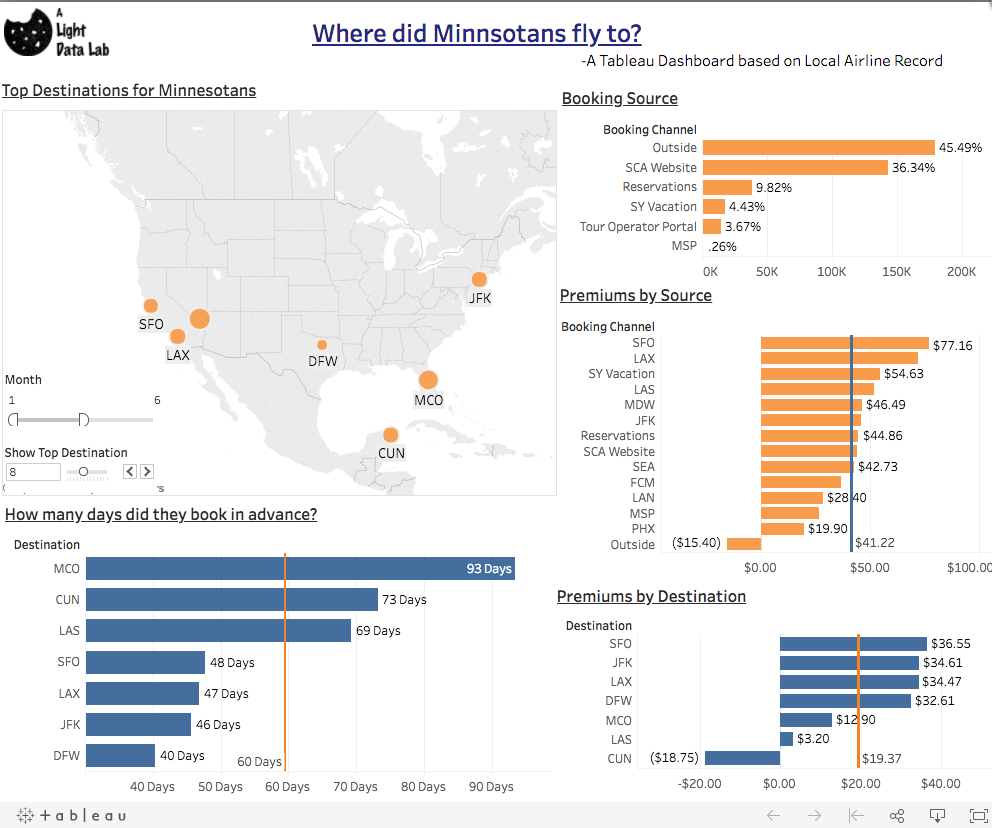

Layout of this report page (visuals, bound fields, positions):
{"tool":"tableau","page":{"name":"Dashboard 1","canvas":[1000,800],"ordinal":0},"visuals":[{"type":"image","param":"/Users/oreo/Documents/GitHub/Shiny App/airport_shiny/Logo/white.png","box":[0,2,120,56]},{"type":"text","box":[49,6,867,47]},{"type":"text","box":[679,34,100,30]},{"type":"text","box":[578,40,382,35]},{"type":"worksheet","title":"Booking Source","mark":"Automatic","rows":["BookingChannel"],"cols":["Number of Records"],"box":[558,75,445,213]},{"type":"worksheet","title":"Premium by Chennel","mark":"Automatic","rows":["BookingChannel"],"cols":["Calculation_5319877110022733836"],"box":[556,272,444,312]},{"type":"filter","title":"Map","param":"[federated.01vndgt0kqbete16qprv50btb9kx].[none:Calculation_5319877110010613768:q","box":[1,365,168,63]},{"type":"parameter","param":"[Parameters].[Parameter 1]","box":[1,438,160,57]},{"type":"worksheet","title":"Advaned Booking","mark":"Automatic","rows":["Service End City (copy)"],"cols":["Calculation_5319877110008938503"],"box":[1,491,556,312]},{"type":"worksheet","title":"Premium by Dest","mark":"Automatic","rows":["Service End City (copy)"],"cols":["Calculation_5319877110022733836"],"box":[553,571,446,229]}]}

Visuals, with their boxes on the page's 1000x800 design canvas (x1, y1, x2, y2). These are canvas units, not pixel positions in the 992x828 screenshot, which may show the page scaled, cropped or inside an application window:
image: box(0, 2, 120, 58)
text: box(49, 6, 916, 53)
text: box(679, 34, 779, 64)
text: box(578, 40, 960, 75)
"Booking Source" worksheet: box(558, 75, 1003, 288)
"Premium by Chennel" worksheet: box(556, 272, 1000, 584)
"Map" filter: box(1, 365, 169, 428)
parameter: box(1, 438, 161, 495)
"Advaned Booking" worksheet: box(1, 491, 557, 803)
"Premium by Dest" worksheet: box(553, 571, 999, 800)
